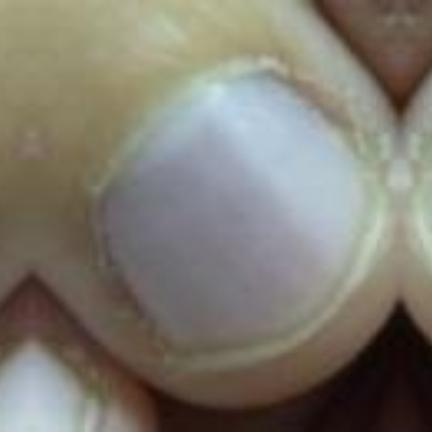Nail: (100, 68, 391, 374), (409, 163, 432, 268)
